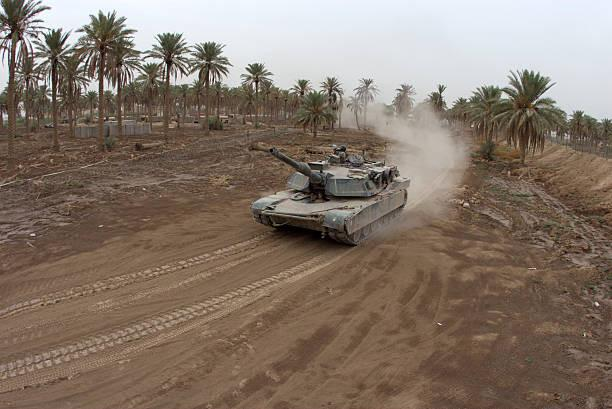tank: (249, 147, 410, 245)
